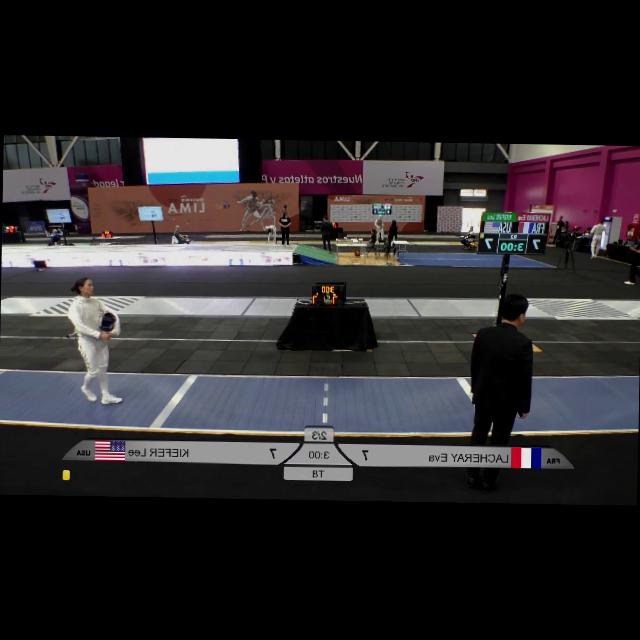blade: (62, 328, 111, 399)
